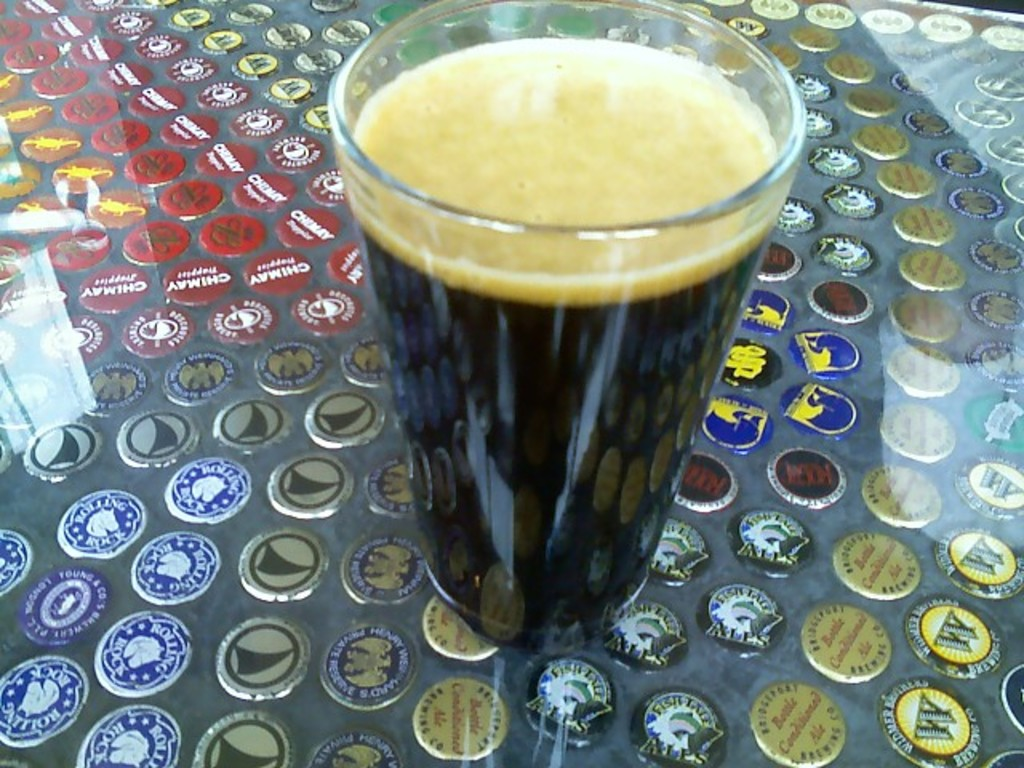Beer: (0, 0, 1022, 766), (324, 0, 822, 663)
